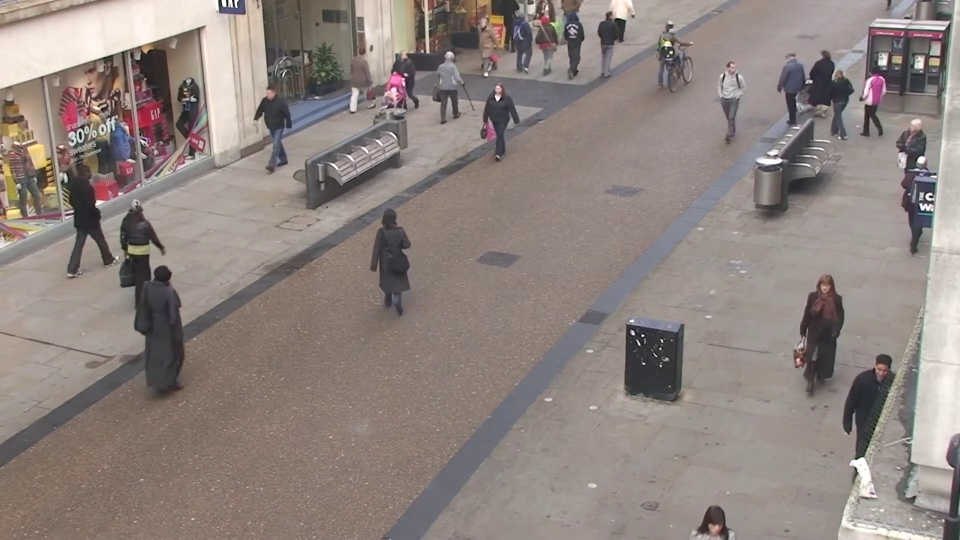pedestrian: (848, 354, 910, 517), (794, 276, 846, 414), (155, 255, 208, 385), (128, 190, 176, 303), (893, 148, 941, 256), (370, 198, 412, 317), (77, 155, 124, 259), (886, 116, 931, 215), (849, 61, 886, 145), (250, 87, 284, 173), (814, 62, 848, 146), (483, 83, 513, 170), (802, 45, 834, 124), (769, 48, 799, 127), (715, 62, 744, 143), (385, 47, 413, 123), (442, 48, 469, 124), (353, 41, 380, 115), (662, 16, 686, 85), (470, 15, 494, 83), (535, 12, 559, 79), (599, 9, 622, 75), (566, 8, 589, 74), (513, 7, 536, 72)
